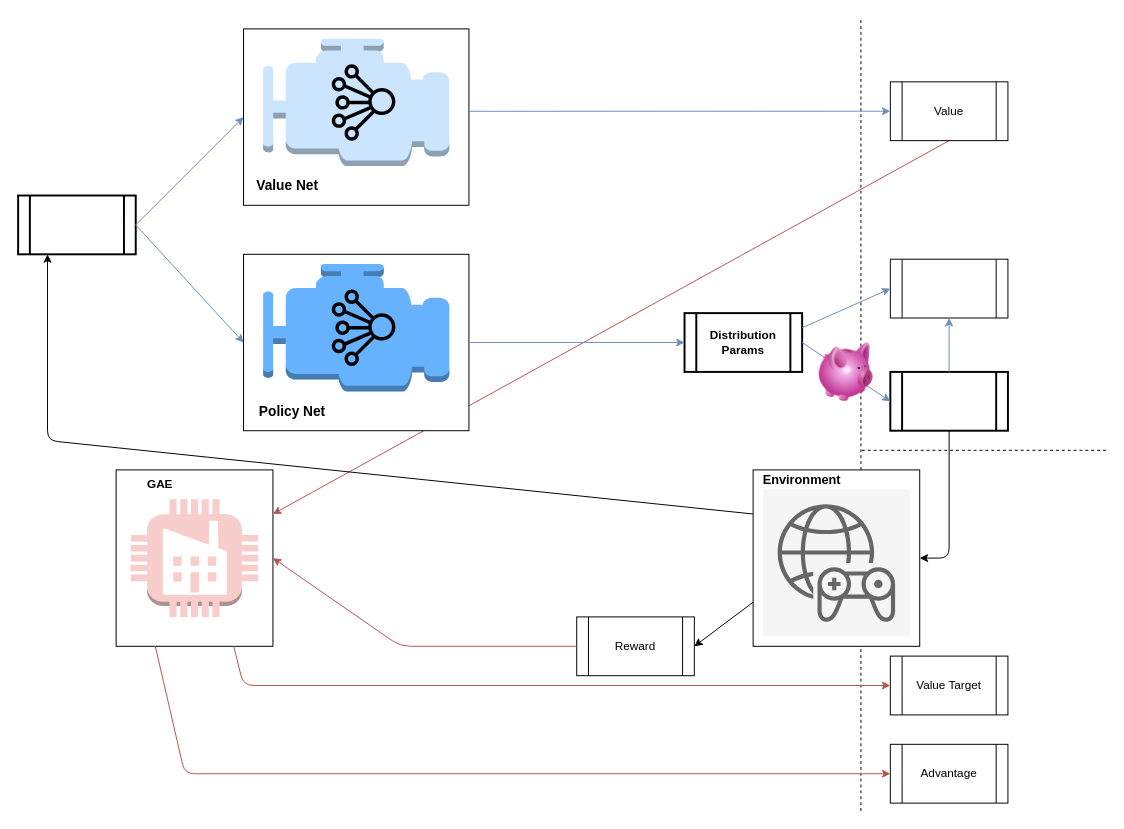
The diagram is 1124 pixels wide and 829 high, and some of its shapes have lost their labels. The centre of each missing label's shape, as x and y in pixels:
"Action" goes at (948,400).
"Observation" goes at (76,224).
"Probability" goes at (948,288).
